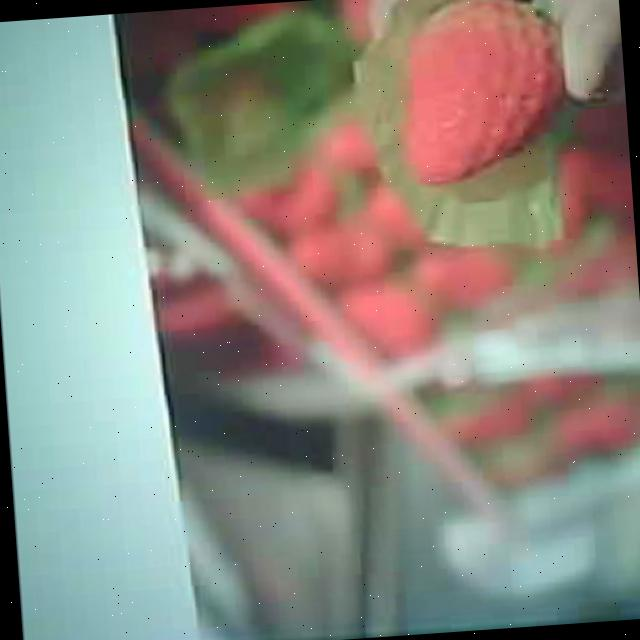strawberry: (391, 0, 569, 184)
